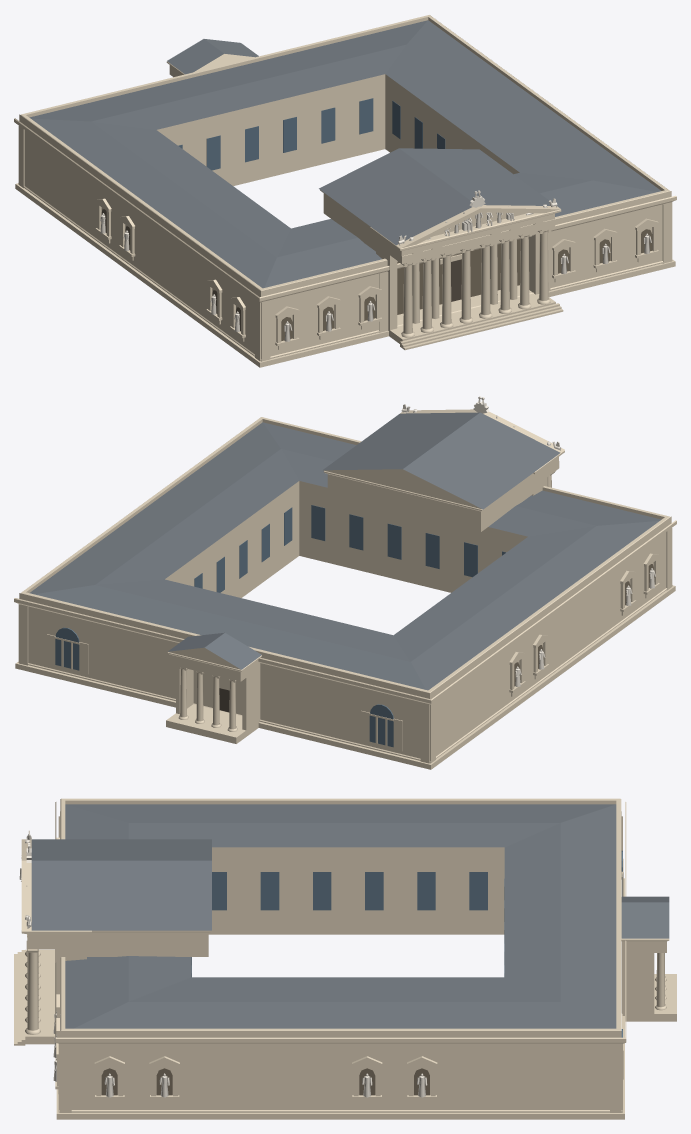
Rendered from munich-glyptothek.glb.
3 views of the same model, one above another, from view 1: azimuth 30°, elevation 25°; view 2: azimuth 150°, elevation 25°; view 3: azimuth 270°, elevation 25° (orthographic). The views are drawn at different scales.
Visible parts, largest first — view 1: Glyptothek; view 2: Glyptothek; view 3: Glyptothek.
Part boxes in pixels (x1,y1,x2,y2): Glyptothek: (14, 15, 676, 367); Glyptothek: (14, 396, 676, 769); Glyptothek: (14, 798, 676, 1119).
Size of the model in its own units: 66.85 by 20.54 by 78.55.
